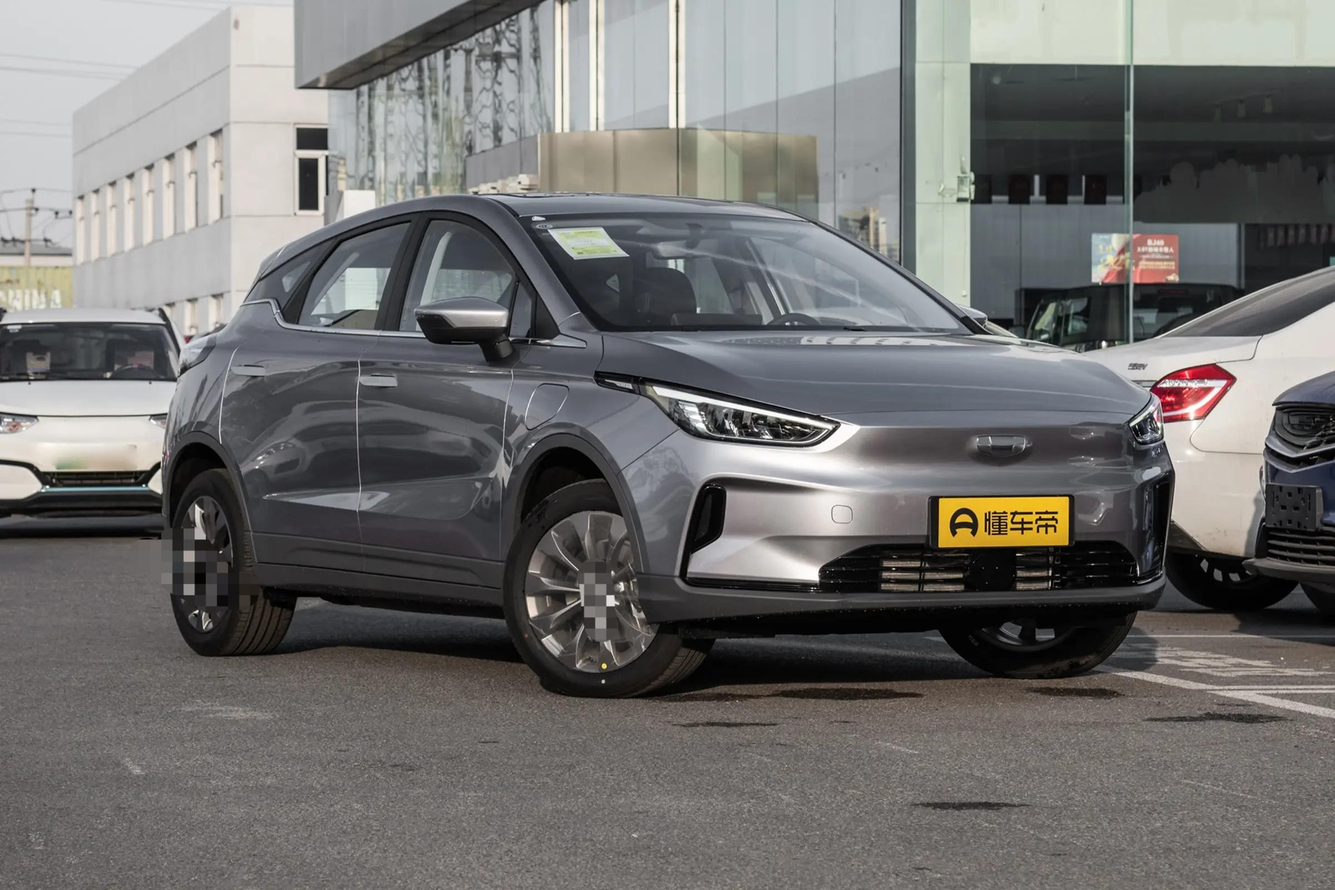GEOMETRY: (977, 437, 1025, 455)
